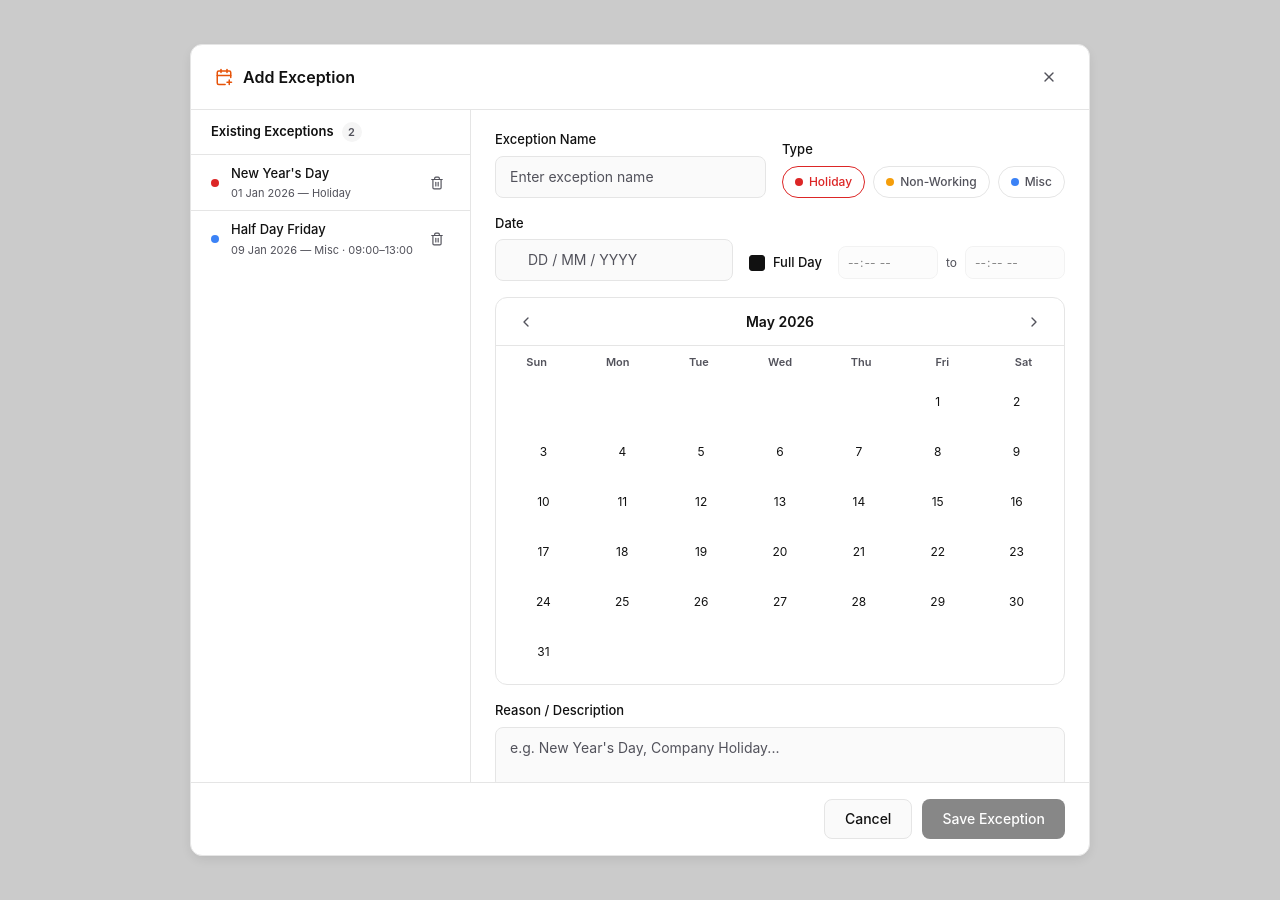
Test: CalendarExceptionModal › auto-fills form when clicking an exception
Click the text "New Year's Day": (280, 172) [231, 164, 329, 180]
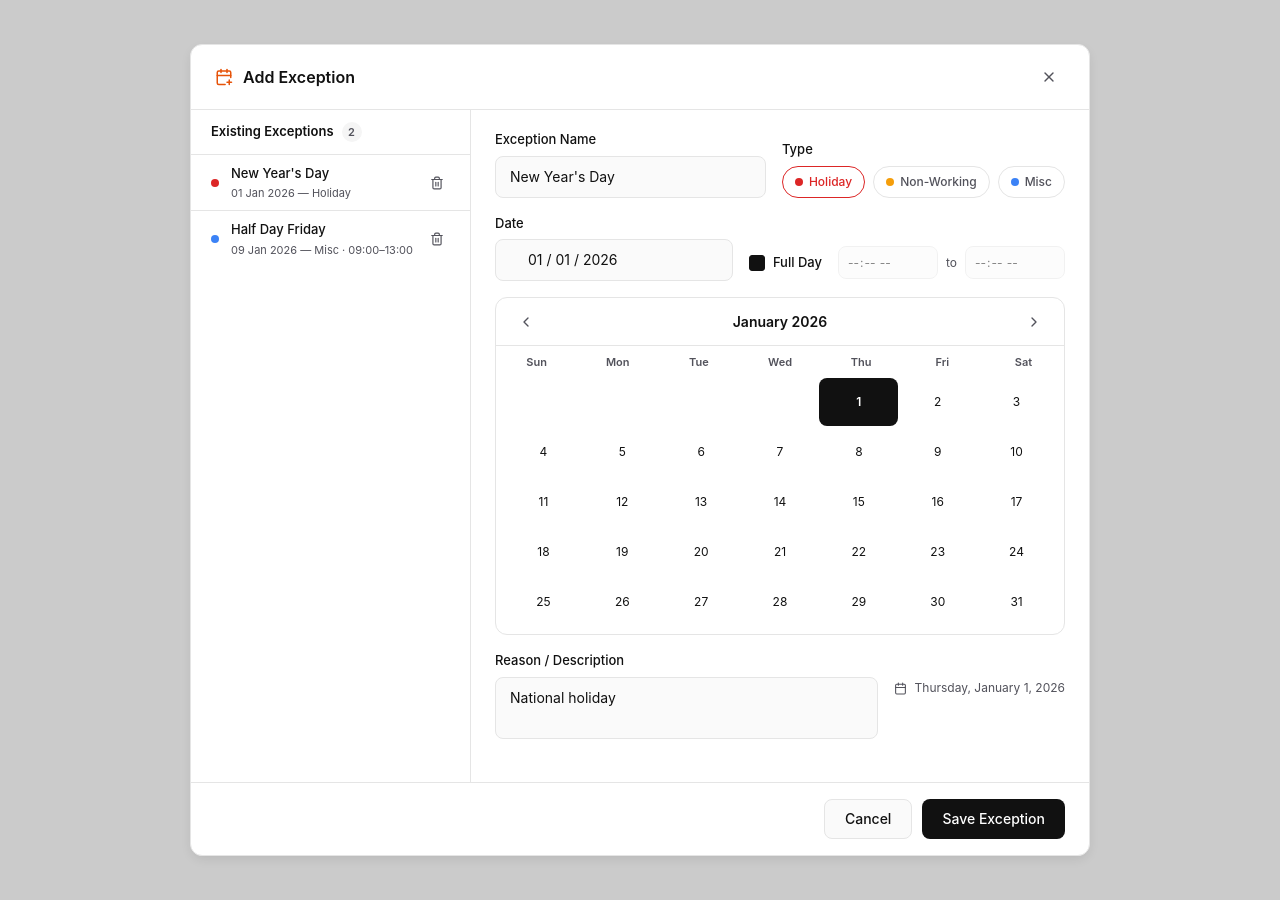
Expected: the field with placeholder "Enter exception name" below "Exception Name" holds "New Year's Day", [495, 156, 766, 198]
Expected: the field with placeholder "DD / MM / YYYY" below "Date" holds "01 / 01 / 2026", [495, 239, 733, 281]
